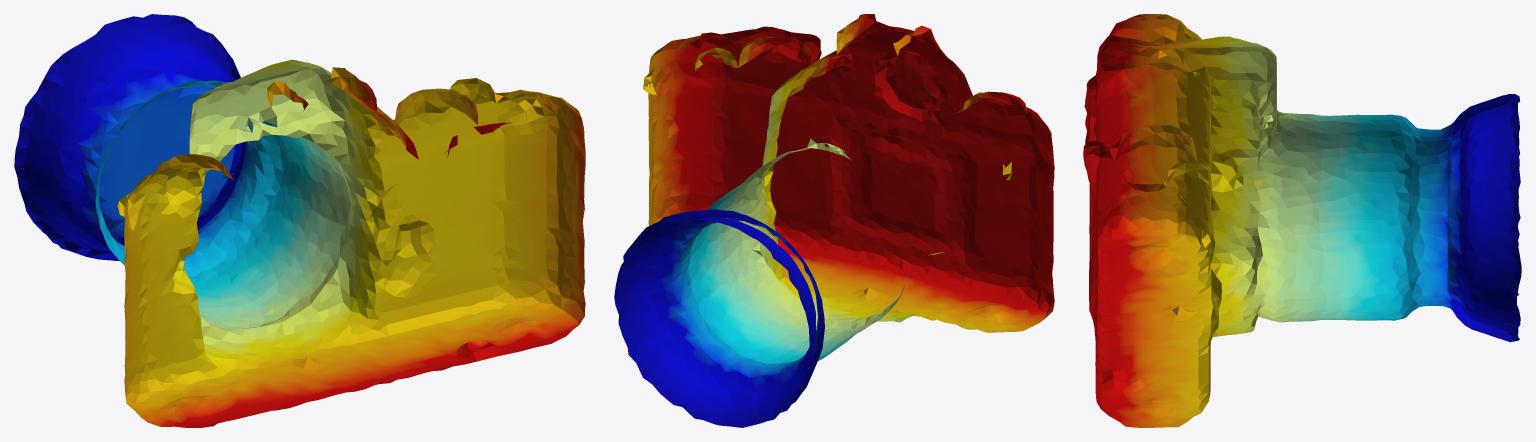
Rendered from camera.glb.
3 renders of one model, left to right at view 1: azimuth 30°, elevation 25°; view 2: azimuth 150°, elevation 25°; view 3: azimuth 270°, elevation 25°, orthographic. The views are drawn at different scales.
Visible parts, largest first — view 1: camera.obj; view 2: camera.obj; view 3: camera.obj.
Boxes of the visible parts, bbox=[...] form: camera.obj: bbox=[14, 14, 585, 427]; camera.obj: bbox=[614, 14, 1054, 427]; camera.obj: bbox=[1083, 14, 1521, 427].
Size of the model in its own units: 1.52 by 1.02 by 1.37.
